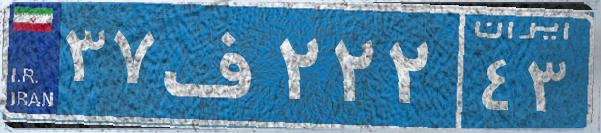2: (385, 28, 445, 110), (273, 28, 330, 110), (330, 28, 385, 110)
3: (57, 26, 110, 107), (525, 38, 570, 115)
4: (475, 38, 525, 113)
7: (110, 28, 158, 105)
ف: (158, 15, 273, 115)
